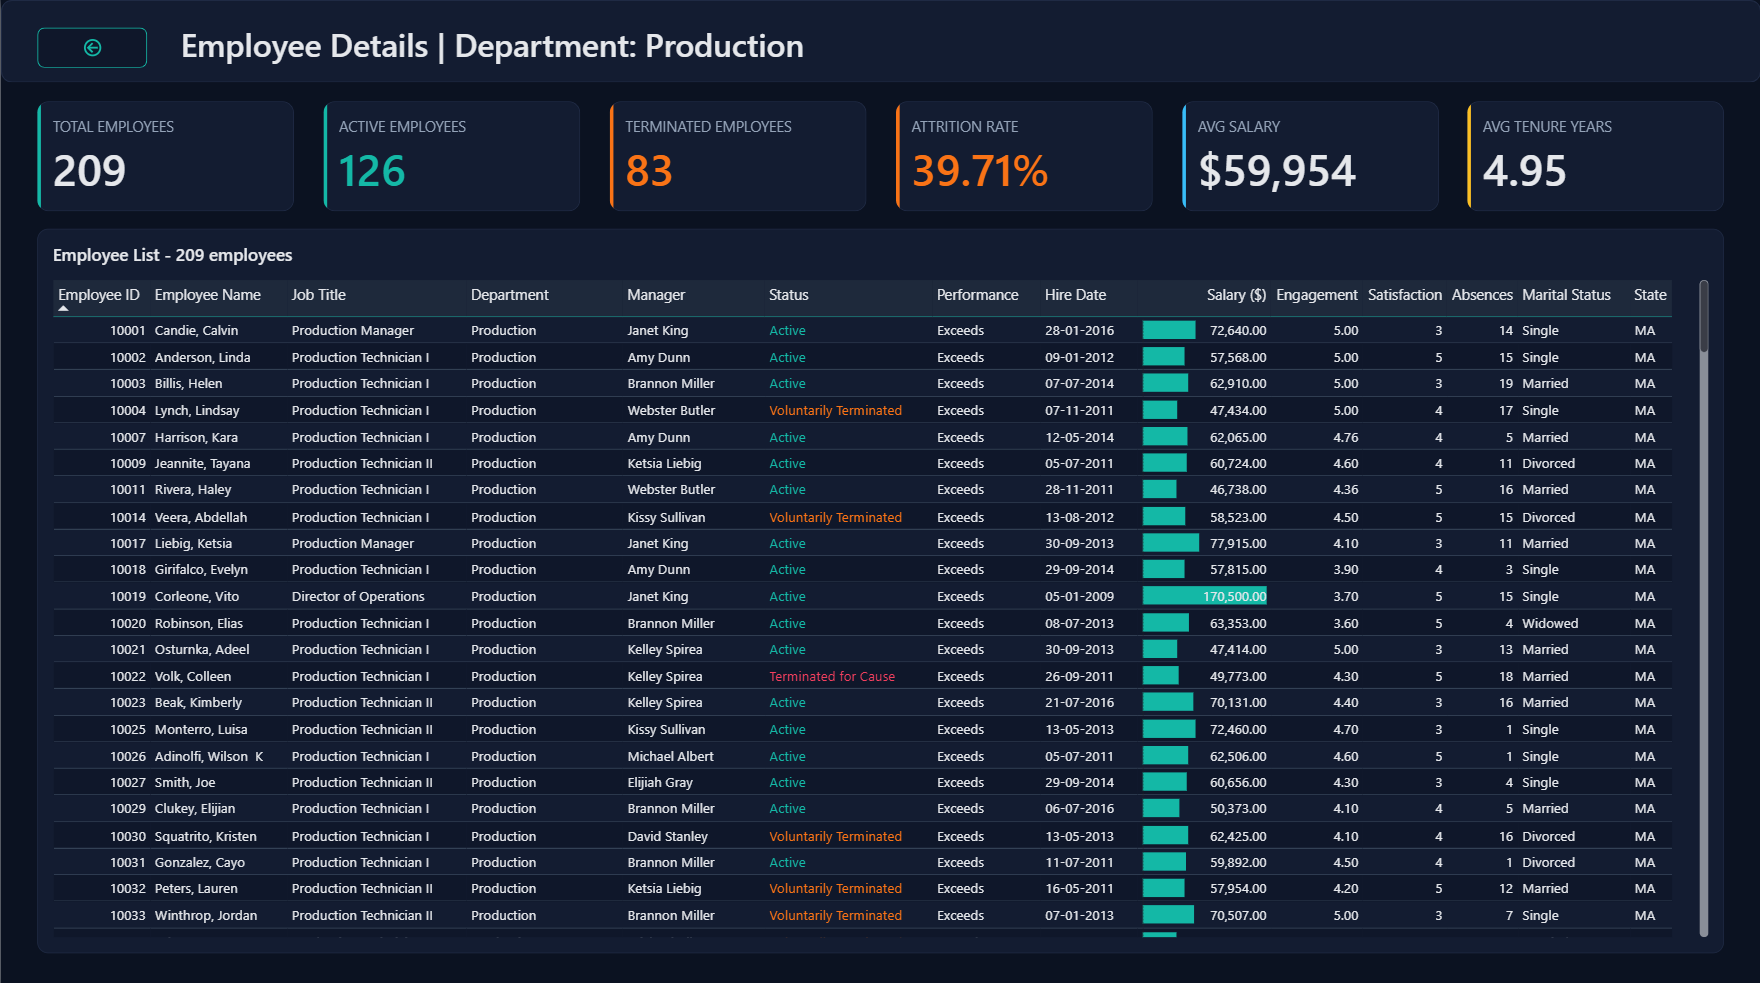

What the dashboard file says about the page in this screenshot:
{"tool":"powerbi","page":{"name":"Employee Details","canvas":[1920,1080],"ordinal":1},"visuals":[{"type":"shape","title":"Top Strip","box":[0,0,1920,89.9],"z":0},{"type":"actionButton","box":[40,30,120,44],"z":1000},{"type":"cardVisual","title":"KPI_Overview-01-Total Employees","fields":{"Data":["_Measures.Total Employees"]},"box":[40,110,280,120],"z":2000},{"type":"cardVisual","title":"KPI_Overview-02- Active Employees","fields":{"Data":["_Measures.Active Employees"]},"box":[352,110,280,120],"z":3000},{"type":"cardVisual","title":"KPI_Overview-03- Terminated Employees","fields":{"Data":["_Measures.Terminated Employees"]},"box":[664,110,280,120],"z":4000},{"type":"cardVisual","title":"KPI_Overview-04- Attrition Rate","fields":{"Data":["_Measures.Attrition Rate %"]},"box":[976,110,280,120],"z":5000},{"type":"cardVisual","title":"KPI_Overview-05-Avg Salary","fields":{"Data":["_Measures.Avg Salary"]},"box":[1288,110,280,120],"z":6000},{"type":"cardVisual","title":"KPI_Overview-06-Avg Tenure Years","fields":{"Data":["_Measures.Avg Tenure Years"]},"box":[1600,110,280,120],"z":7000},{"type":"tableEx","fields":{"Values":["Employee.EmpID","Employee.EmployeeName","Position.Position","Department.Department","Manager.ManagerName","Employment Status.EmploymentStatus","Performance Score.PerformanceScore","Fact Employment.HireDate","Sum(Fact Employment.Salary)","Fact Employment.EngagementSurvey","Fact Employment.EmpSatisfaction","Fact Employment.Absences"]},"box":[40,250,1840,790],"z":8000},{"type":"cardVisual","fields":{"Data":["_Measures.Drill Through Dynamic Detail Title"]},"box":[180,22,1400,52],"z":9000}]}

Visuals, with their boxes in screenshot pixels (x1, y1, x2, y2), scaled from the page's 1920x1080 canvas onto the 1760x983 screenshot:
"Top Strip" shape: (0, 0, 1759, 82)
actionButton: (37, 27, 147, 67)
"KPI_Overview-01-Total Employees" cardVisual: (37, 100, 293, 209)
"KPI_Overview-02- Active Employees" cardVisual: (323, 100, 579, 209)
"KPI_Overview-03- Terminated Employees" cardVisual: (609, 100, 865, 209)
"KPI_Overview-04- Attrition Rate" cardVisual: (895, 100, 1151, 209)
"KPI_Overview-05-Avg Salary" cardVisual: (1181, 100, 1437, 209)
"KPI_Overview-06-Avg Tenure Years" cardVisual: (1467, 100, 1723, 209)
tableEx - Employee.EmpID x Employee.EmployeeName: (37, 228, 1723, 947)
cardVisual - _Measures.Drill Through Dynamic Detail Title: (165, 20, 1448, 67)
